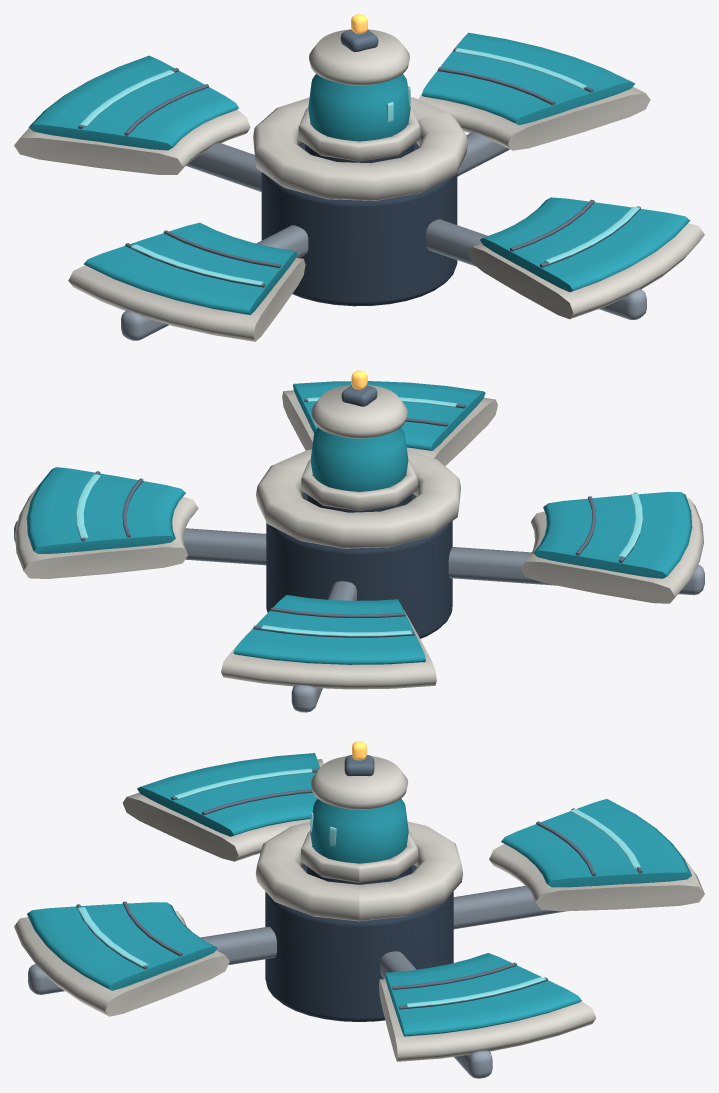
The model's file is stellar_energy_array_lv2.glb.
3 renders of one model, top to bottom at view 1: azimuth 30°, elevation 25°; view 2: azimuth 150°, elevation 25°; view 3: azimuth 270°, elevation 25°, orthographic. The views are drawn at different scales.
Parts seen in each view (by area): view 1: Structure; view 2: Structure; view 3: Structure.
Part boxes in pixels (left/top/right/bottom): Structure: left=14, top=14, right=704, bottom=341; Structure: left=14, top=370, right=704, bottom=712; Structure: left=14, top=741, right=704, bottom=1078.
Size of the model in its own units: 8.43 by 3.26 by 8.43.
